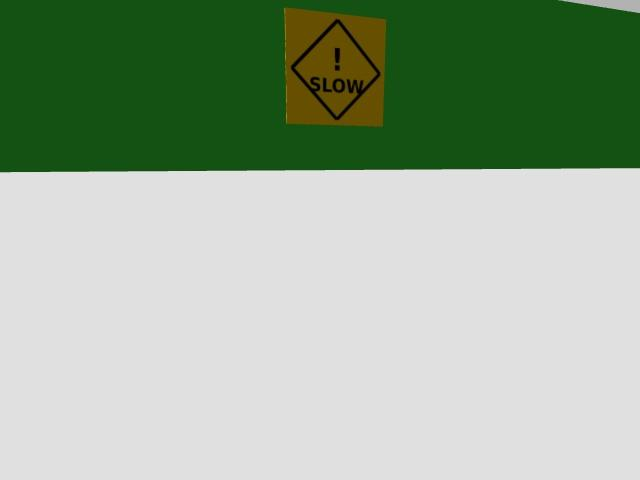slow: (285, 8, 385, 126)
